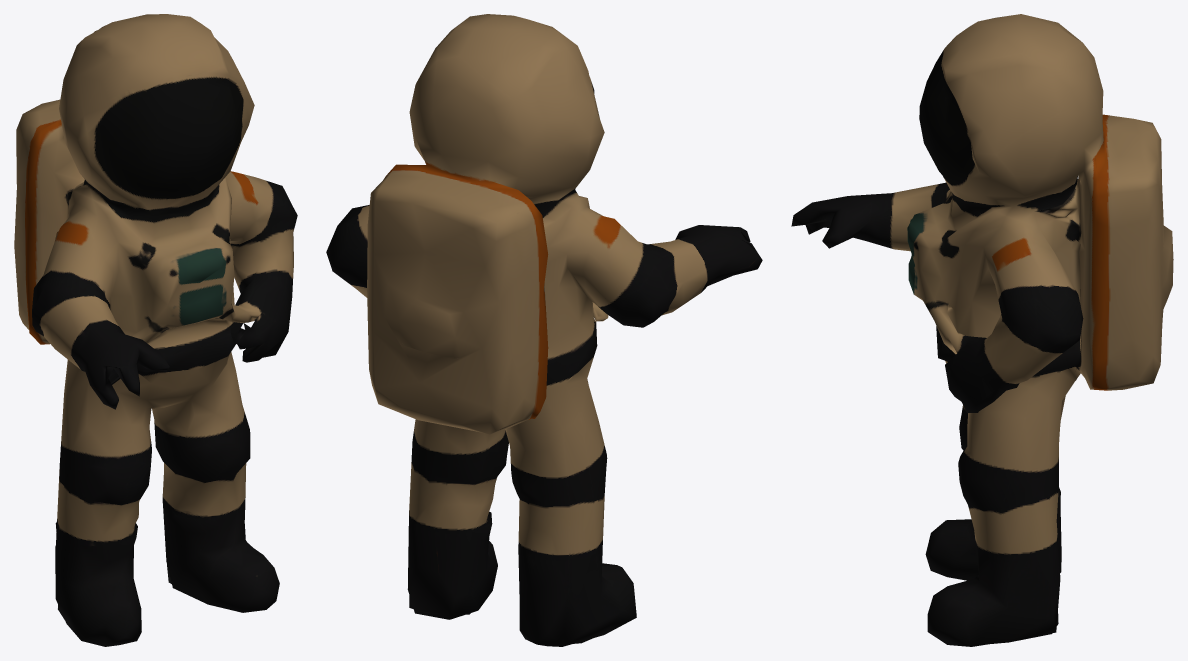
The model's file is figura-ukazyvaet.glb.
3 renders of one model, left to right at view 1: azimuth 30°, elevation 25°; view 2: azimuth 150°, elevation 25°; view 3: azimuth 270°, elevation 25°, orthographic. The views are drawn at different scales.
Visible parts, largest first — view 1: geometry_0; view 2: geometry_0; view 3: geometry_0.
Boxes of the visible parts, bbox=[...] form: geometry_0: bbox=[14, 14, 297, 646]; geometry_0: bbox=[326, 14, 762, 646]; geometry_0: bbox=[791, 14, 1173, 646].
Bounding box in the file's own units: 0.5488 × 1 × 0.6013.
Materials: 1 (1 with a texture image).
